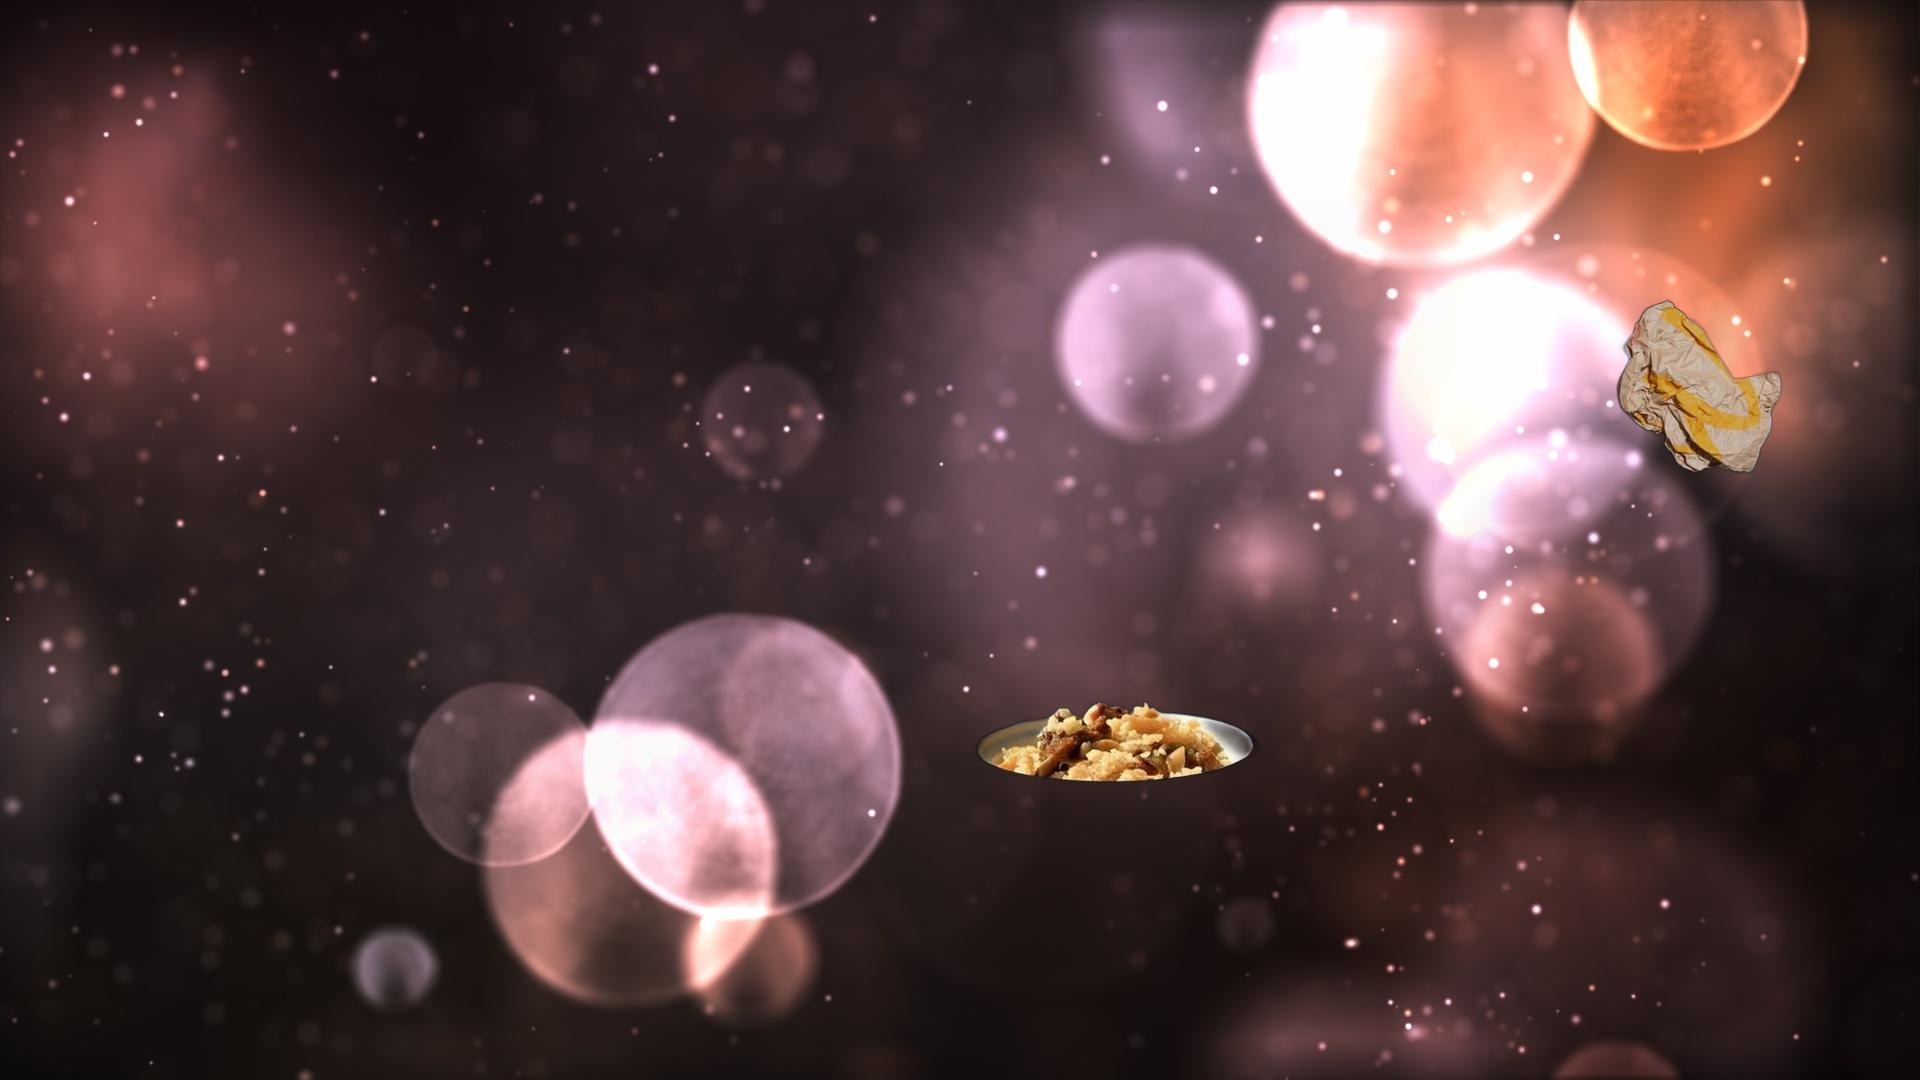biological: (971, 699, 1263, 858)
paper-bag: (1614, 249, 1869, 476)
shoes: (1036, 1076, 1245, 1080)
